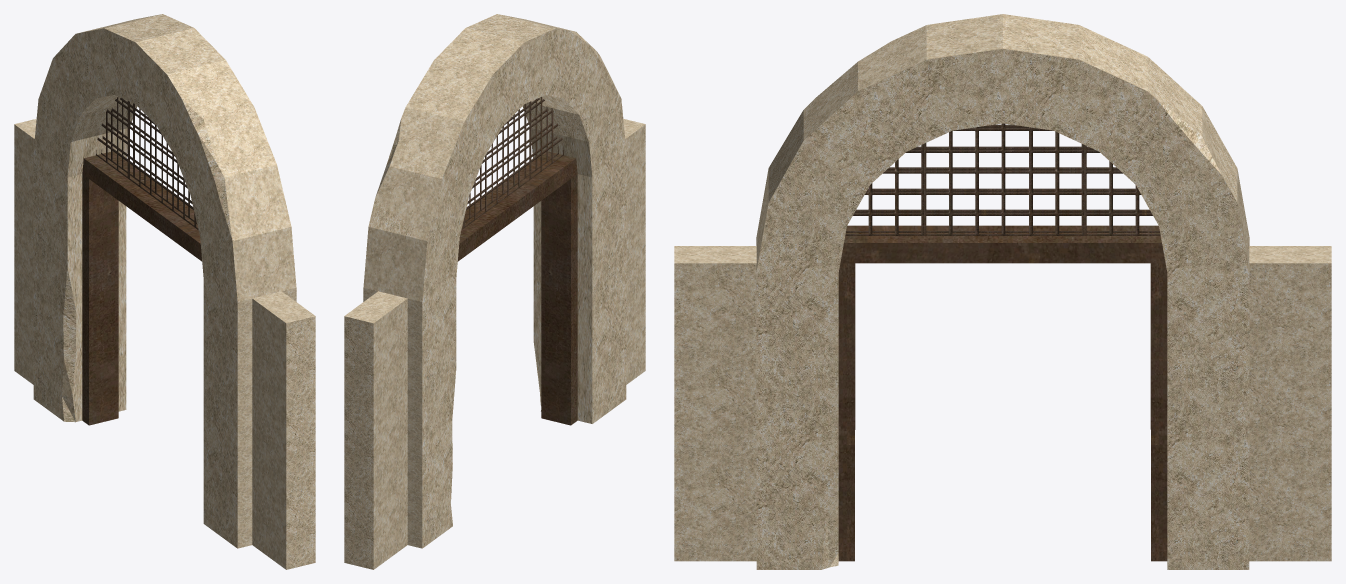
Rendered from thm_tato_imprv_wallgate_s01_l0.fbx.
3 renders of one model, left to right at view 1: azimuth 30°, elevation 25°; view 2: azimuth 150°, elevation 25°; view 3: azimuth 270°, elevation 25°, orthographic. The views are drawn at different scales.
Visible parts, largest first — view 1: mesh_node; view 2: mesh_node; view 3: mesh_node.
Part boxes in pixels (x1,y1,x2,y2): mesh_node: [14, 14, 315, 569]; mesh_node: [344, 14, 645, 569]; mesh_node: [674, 14, 1331, 569].
Size of the model in its own units: 1 by 7 by 8.
